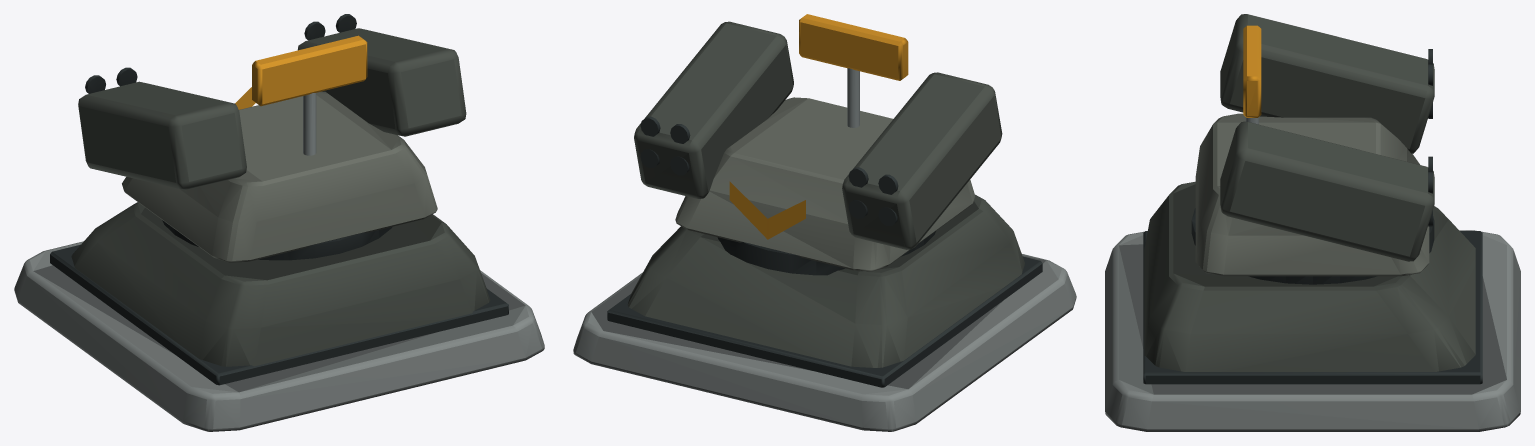
File: AntiAirTurret.glb
3 views of the same model, side by side, from view 1: azimuth 30°, elevation 25°; view 2: azimuth 150°, elevation 25°; view 3: azimuth 270°, elevation 25° (orthographic). The views are drawn at different scales.
Visible parts, largest first — view 1: export_AntiAirTurret_Foundation, export_AntiAirTurret_Turret; view 2: export_AntiAirTurret_Foundation, export_AntiAirTurret_Turret; view 3: export_AntiAirTurret_Foundation, export_AntiAirTurret_Turret.
Boxes of the visible parts, bbox=[...] form: export_AntiAirTurret_Foundation: bbox=[14, 202, 544, 431]; export_AntiAirTurret_Turret: bbox=[78, 14, 466, 262]; export_AntiAirTurret_Foundation: bbox=[573, 194, 1076, 431]; export_AntiAirTurret_Turret: bbox=[634, 14, 1002, 271]; export_AntiAirTurret_Foundation: bbox=[1105, 181, 1520, 431]; export_AntiAirTurret_Turret: bbox=[1195, 14, 1434, 276].
Bounding box in the file's own units: 3.43 × 2.68 × 3.43.
